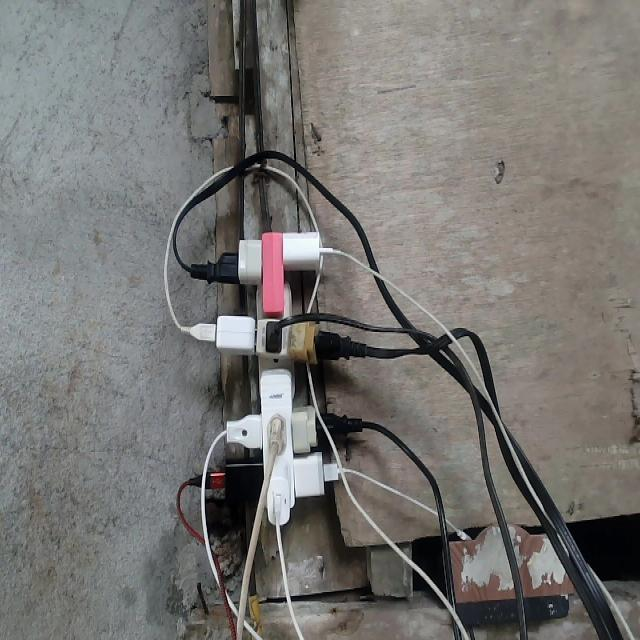-: (175, 224, 369, 525)
